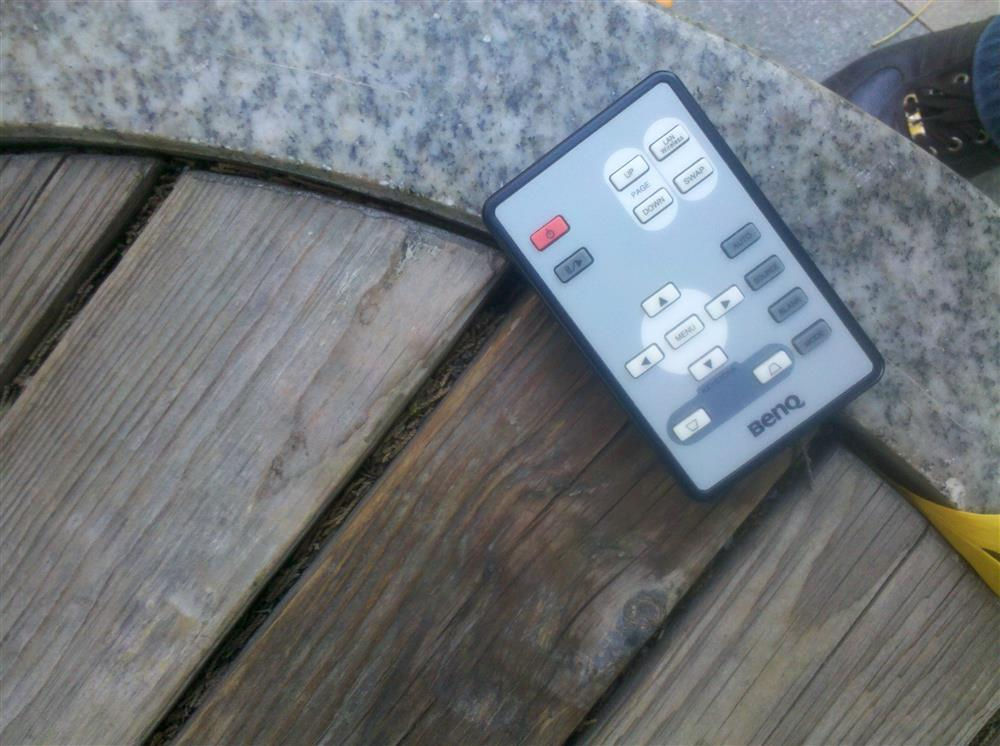BenQ_remote: (493, 75, 880, 491)
